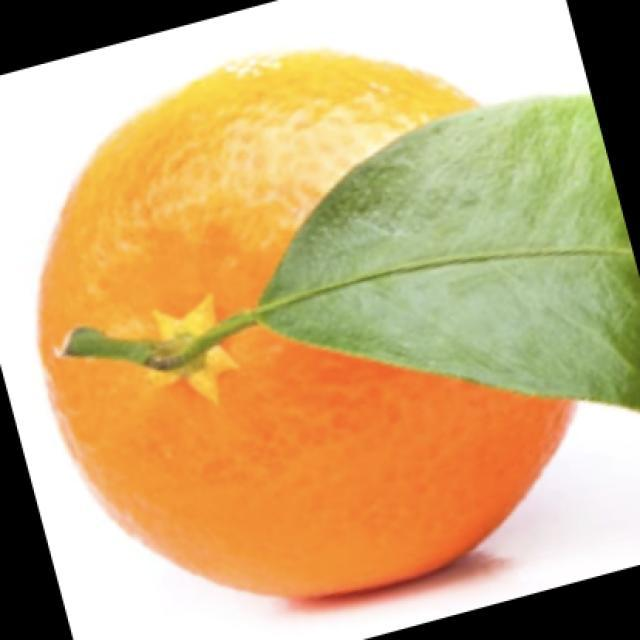matang: (38, 52, 573, 597)
